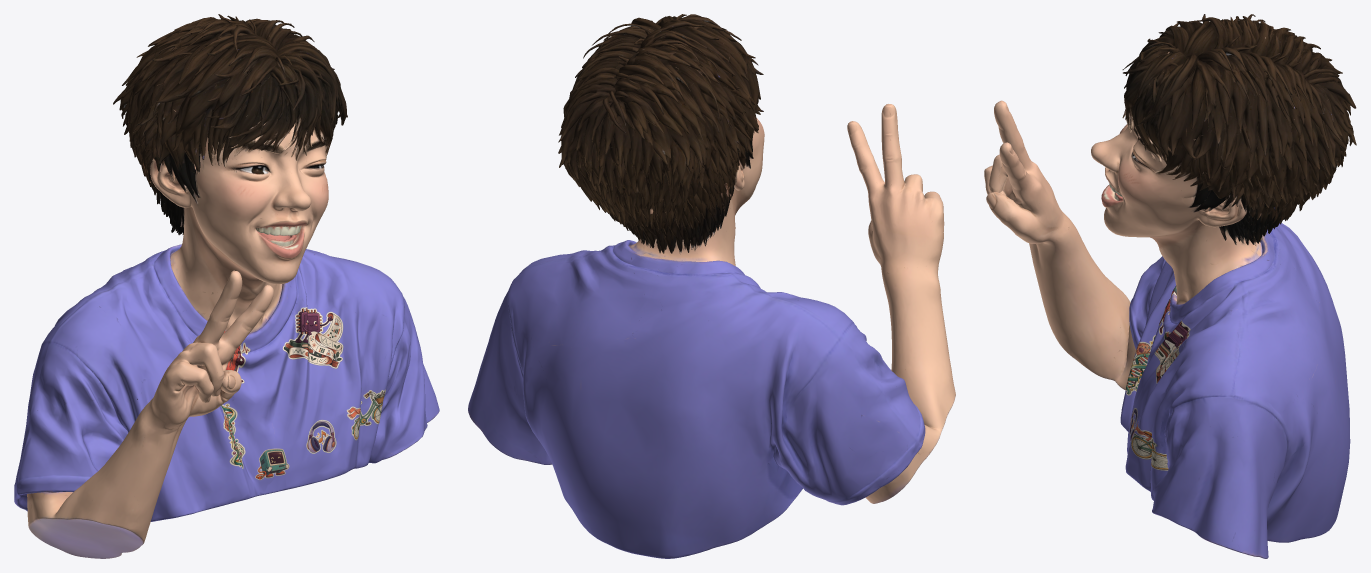
The picture shows the model from 3 angles, left to right: view 1: azimuth 30°, elevation 25°; view 2: azimuth 150°, elevation 25°; view 3: azimuth 270°, elevation 25°; orthographic projection. The views are drawn at different scales.
Parts seen in each view (by area): view 1: ConnyShirt, ConnySkin, ConnyHair, ConnySticker-chip, ConnySticker-bike, ConnySticker-hub, ConnySticker-headphones, ConnySticker-dna; view 2: ConnyShirt, ConnySkin, ConnyHair; view 3: ConnyShirt, ConnySkin, ConnyHair, ConnySticker-chip, ConnySticker-bike, ConnySticker-dna.
Part boxes in pixels (<box>): ConnyShirt: <box>14,244,439,521</box>; ConnySkin: <box>27,14,435,558</box>; ConnyHair: <box>115,14,347,234</box>; ConnySticker-chip: <box>282,307,343,368</box>; ConnySticker-bike: <box>346,389,385,440</box>; ConnySticker-hub: <box>255,448,289,479</box>; ConnySticker-headphones: <box>306,419,336,453</box>; ConnySticker-dna: <box>221,403,245,468</box>; ConnyShirt: <box>468,240,925,558</box>; ConnySkin: <box>558,14,955,503</box>; ConnyHair: <box>559,14,763,252</box>; ConnyShirt: <box>1120,223,1350,558</box>; ConnySkin: <box>984,14,1356,552</box>; ConnyHair: <box>1122,14,1353,244</box>; ConnySticker-chip: <box>1154,320,1190,383</box>; ConnySticker-bike: <box>1131,421,1168,470</box>; ConnySticker-dna: <box>1125,335,1155,395</box>.
Bounding box in the file's own units: 1.74 × 1.91 × 1.28.
Materials: 9 (9 with a texture image).
